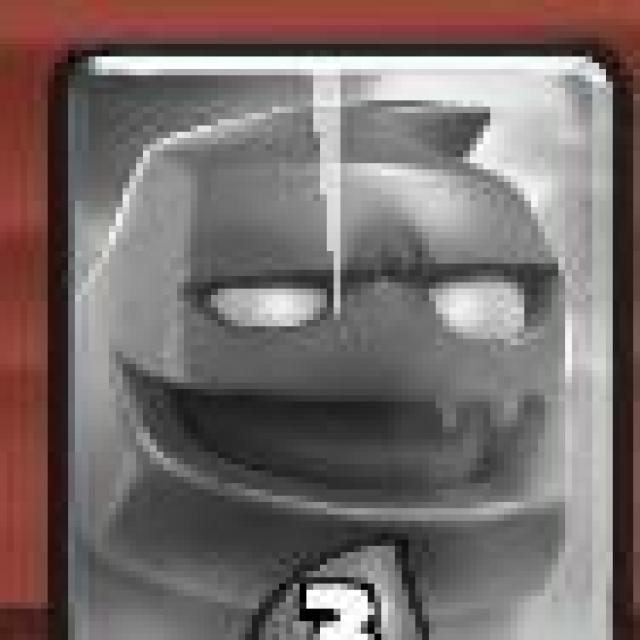Elixir_Golem: (45, 40, 634, 640)
